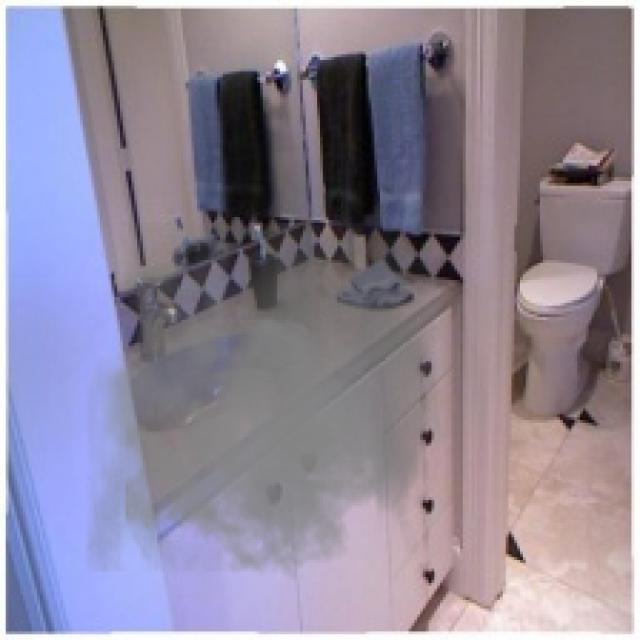Smoke: (86, 223, 446, 583)
